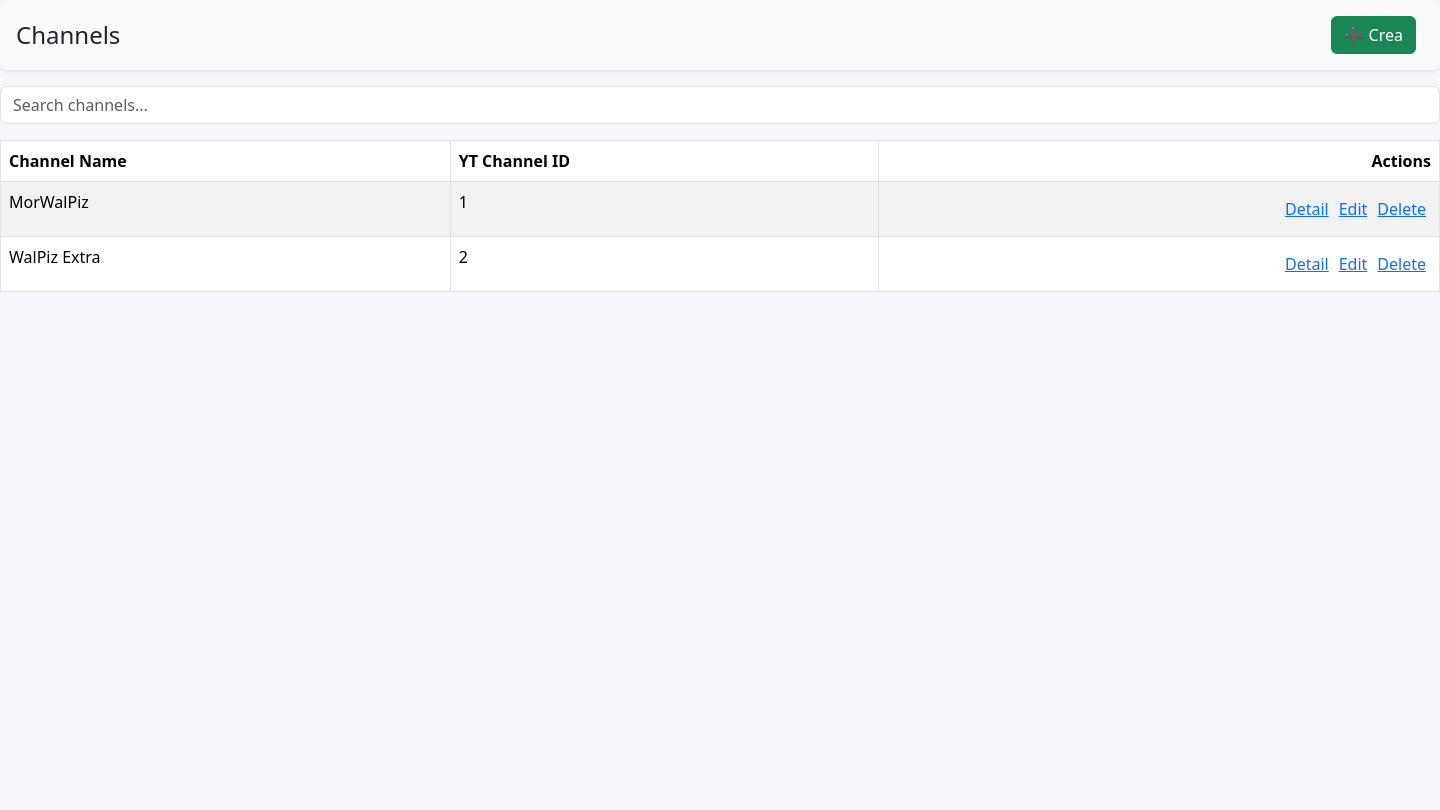
Channels Index › closes the modal when Cancel is clicked
The width and height of the screenshot is (1440, 810).
Click the button "Delete" in the row of "MorWalPiz": coordinates (1402, 209) [1372,190,1431,228]
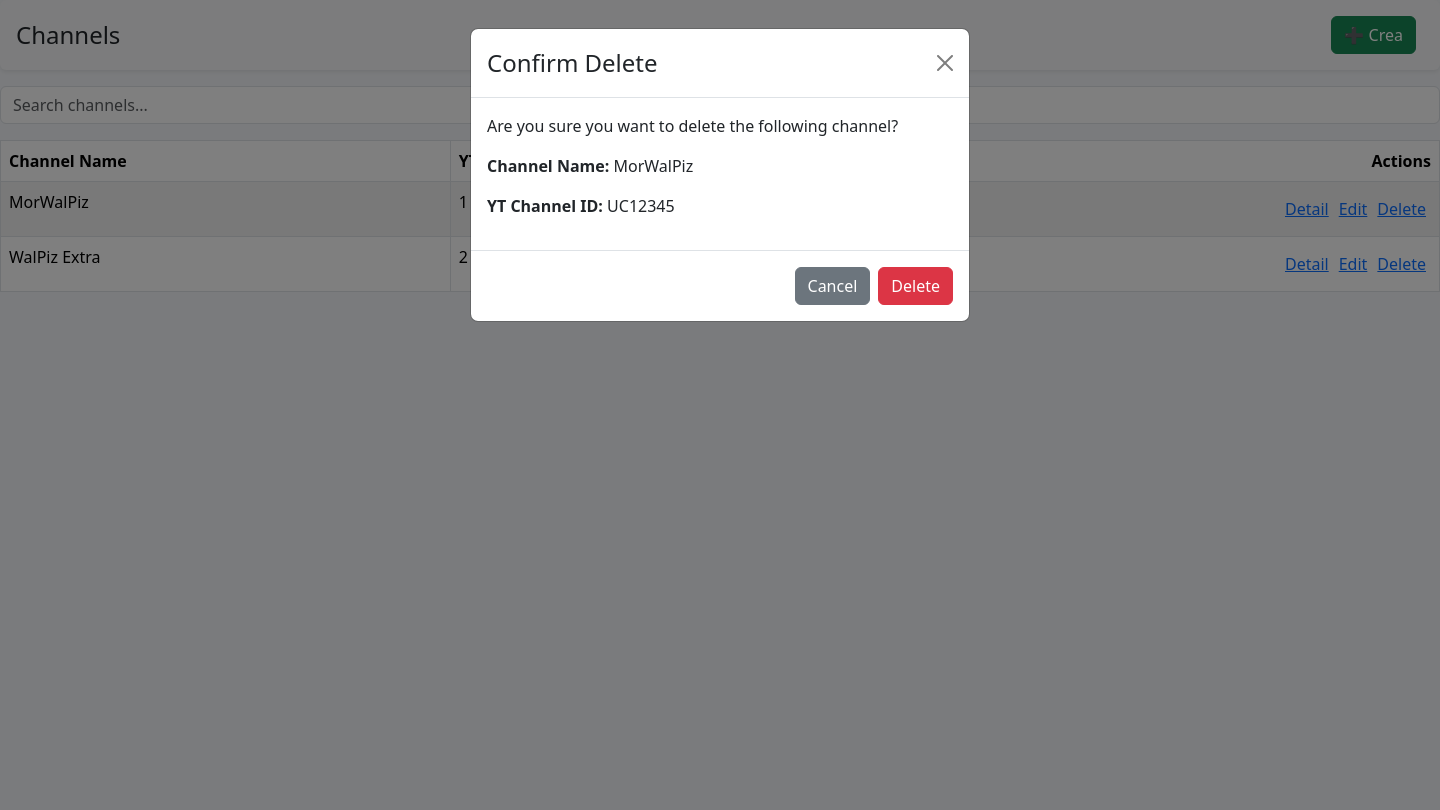
Click the button "Cancel": coordinates (832, 286) [794,267,870,305]
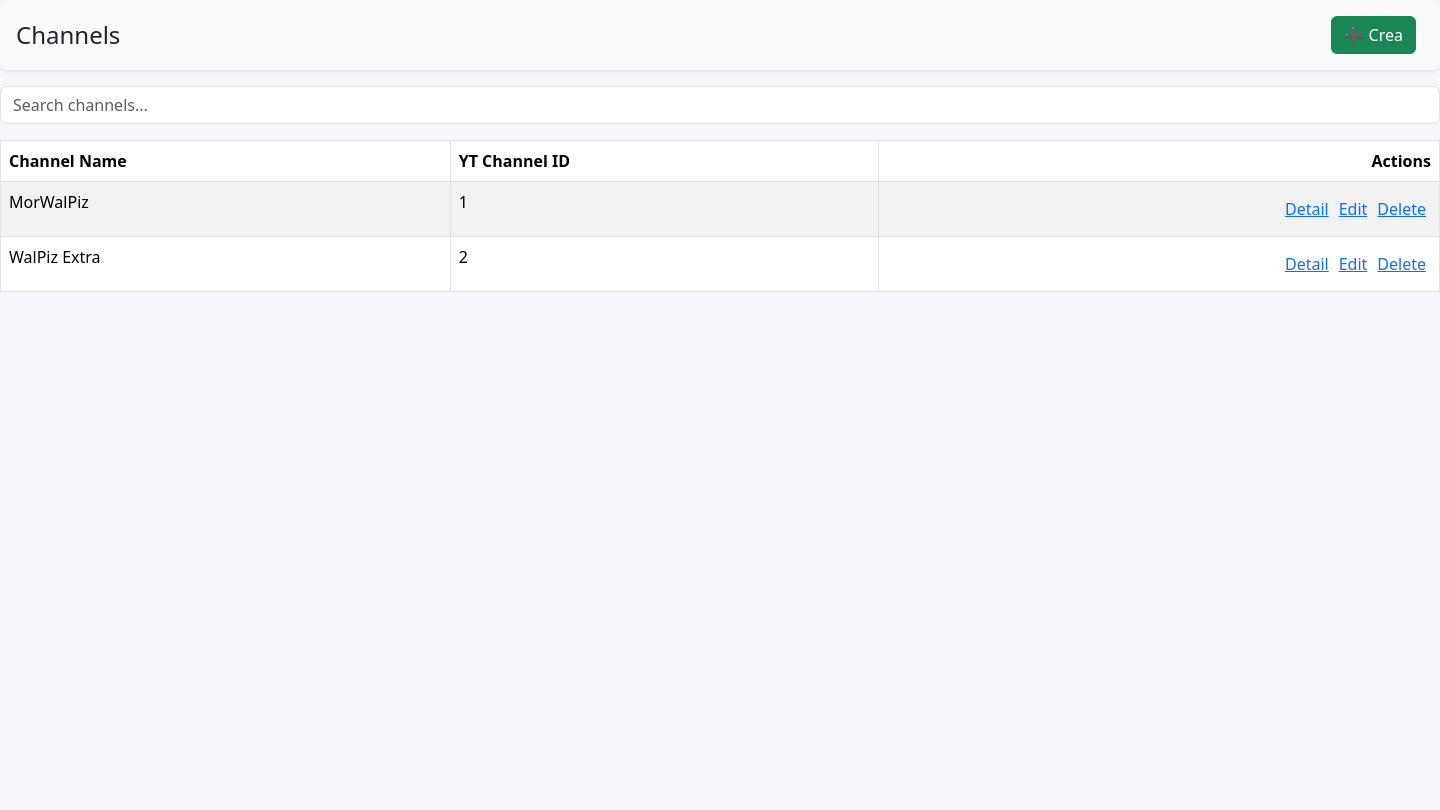
Expected: the text "Confirm Delete" is gone
